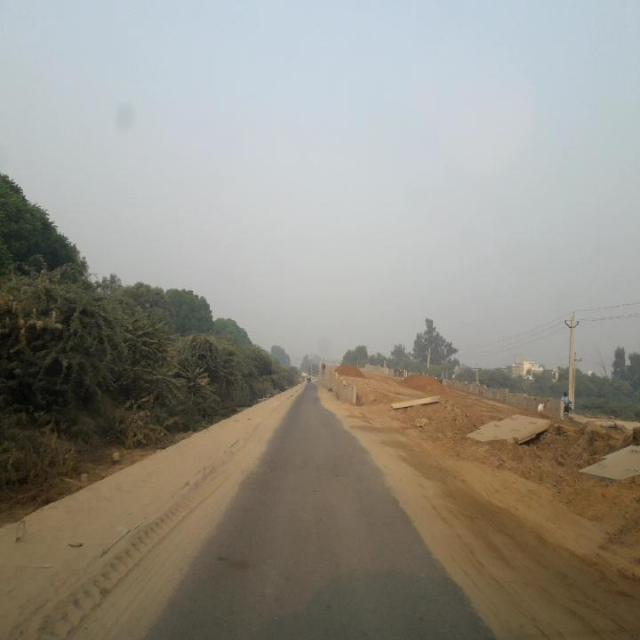Surface Erosion: (303, 360, 630, 640)
